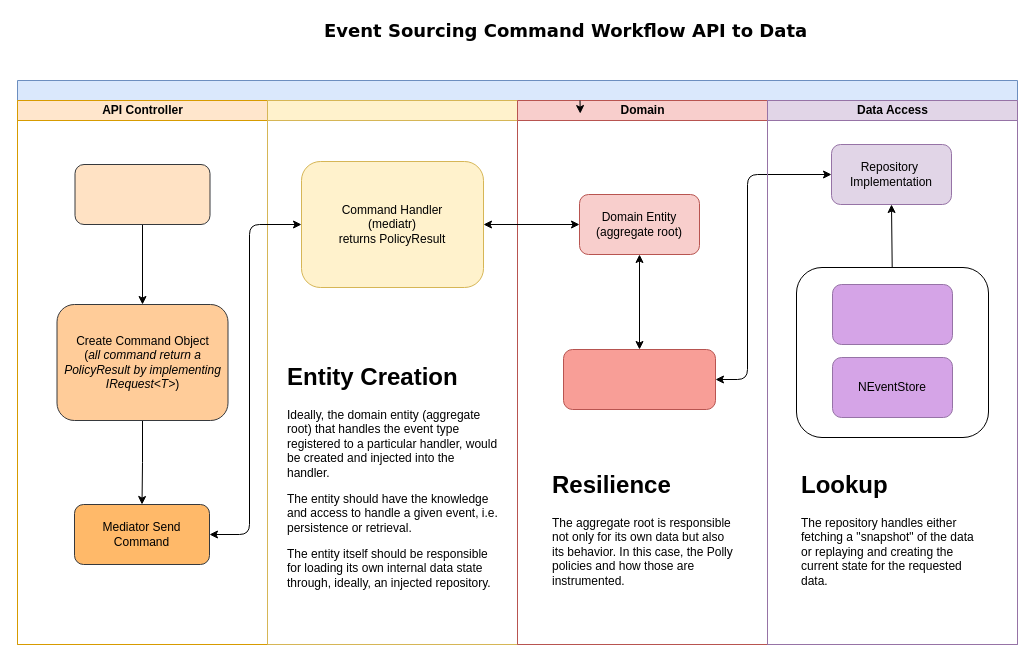
This 1035x662 diagram has some shape labels left out. Here are the shapes that lost their labels. From the top down, the box of each, then its label:
(74, 164, 210, 224): HttpRequest(Dto dto)
(832, 284, 952, 344): MongoDb Store
(266, 100, 518, 644): Infrastructure
(562, 348, 716, 410): Repository save/load/update/delete
